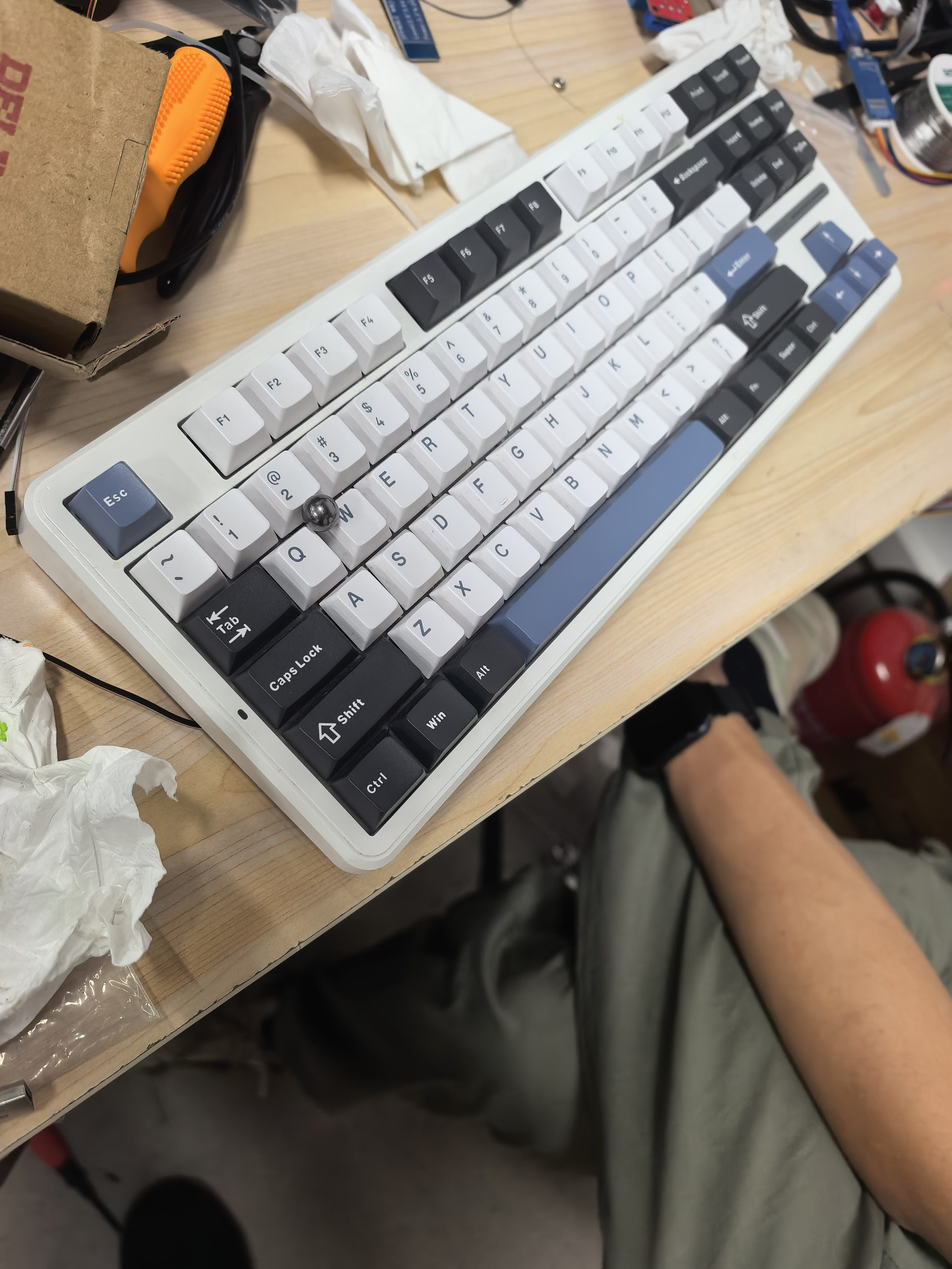ball: (302, 493, 339, 534)
